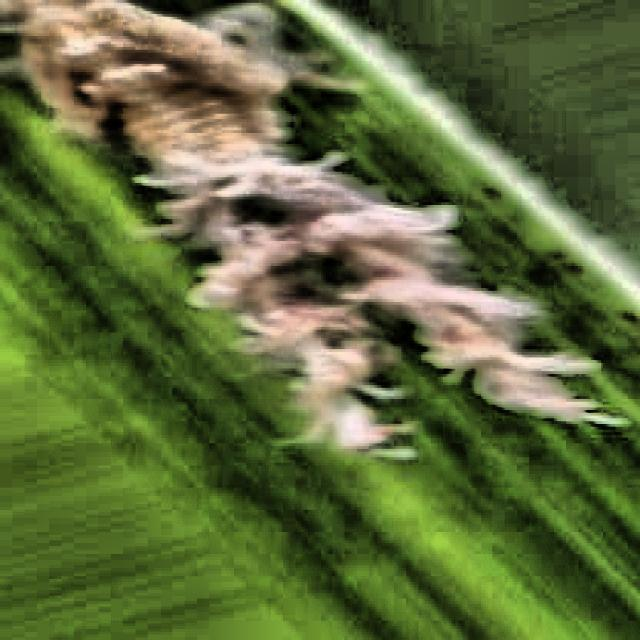Pyrilla-perpusilla: (0, 0, 612, 469)
